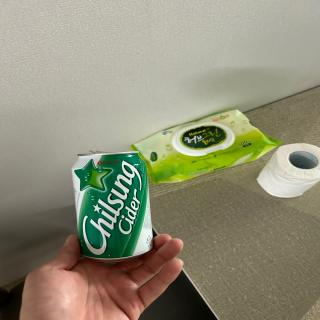cocacola: (70, 149, 156, 262)
